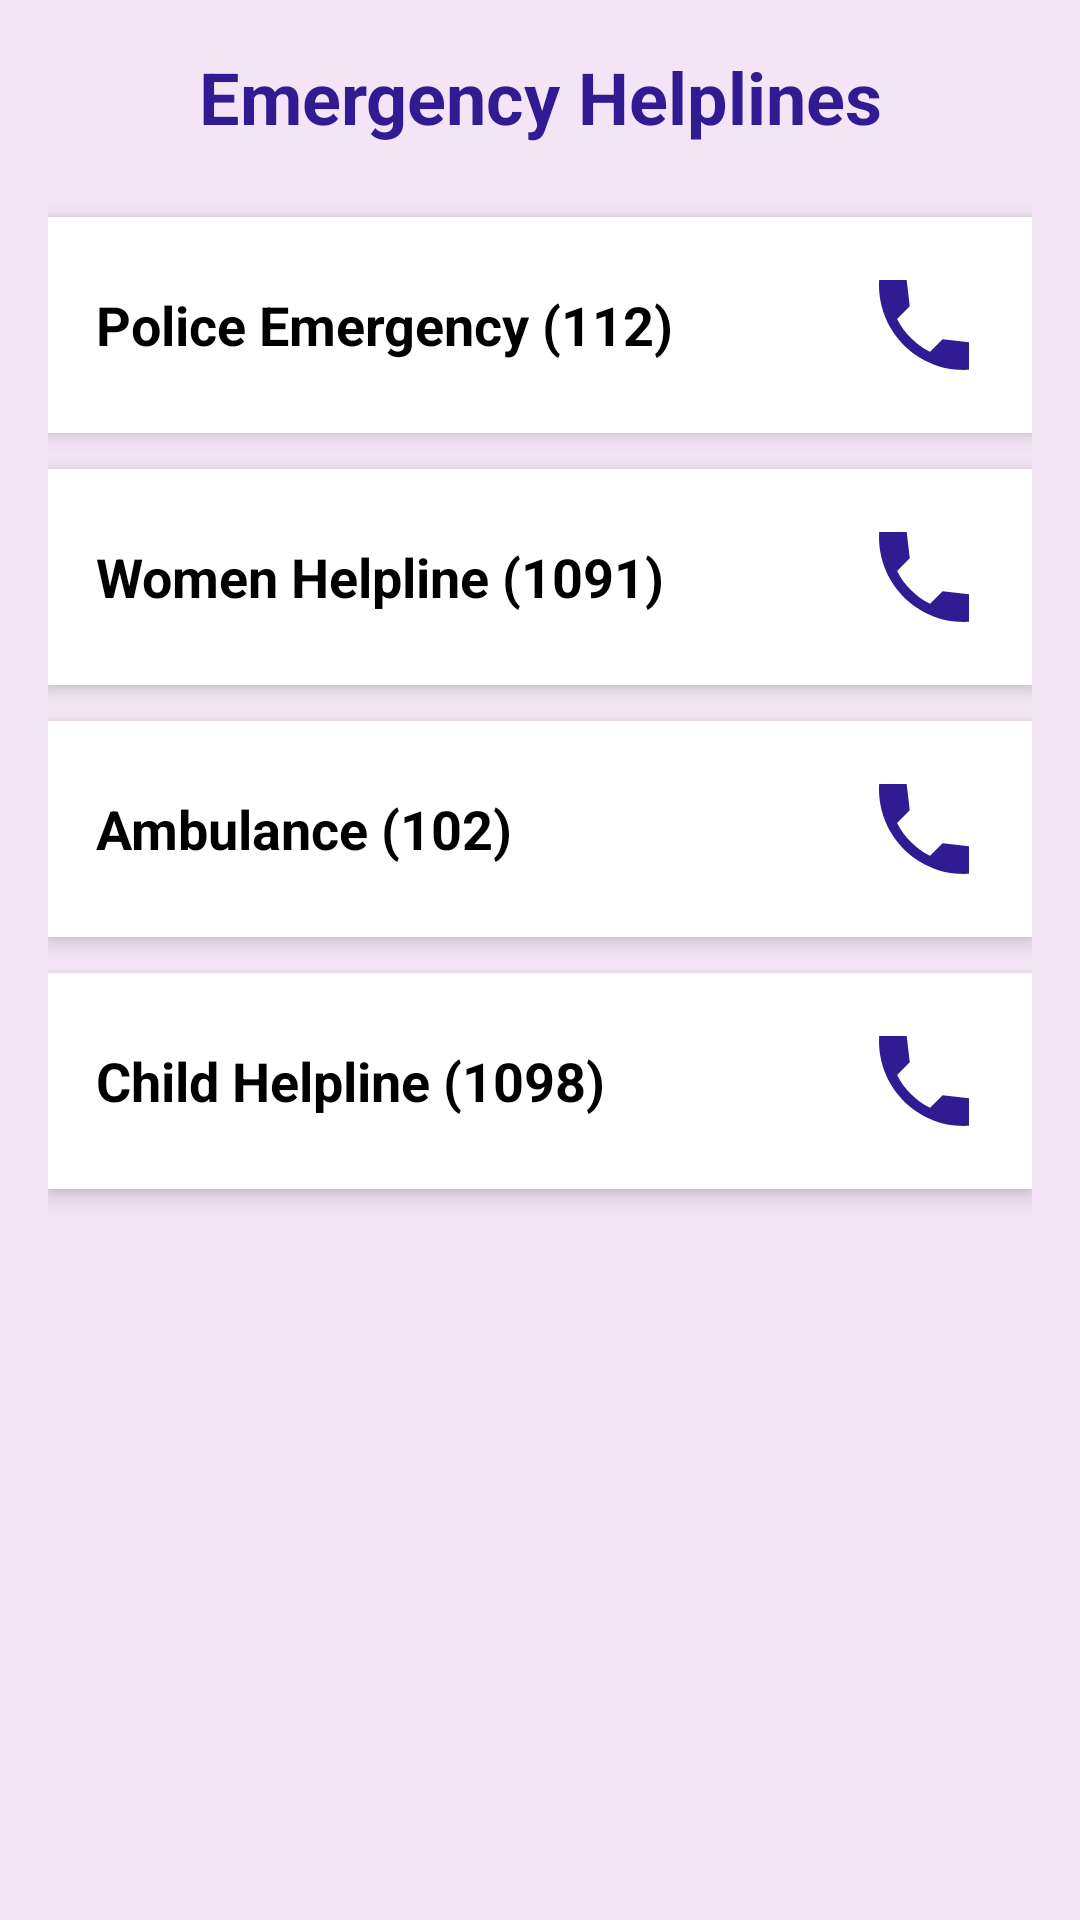

Point at icon controls on the screen. Image size 1080w x 1920h, points as (x=x, y=y).
call: (x=924, y=325), (x=924, y=577), (x=924, y=829), (x=924, y=1081)
